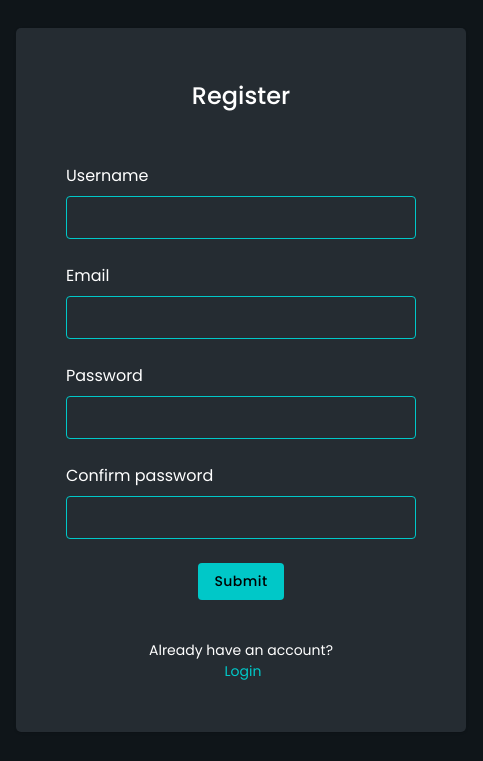
Test: Register form test › 3. New user without email
Type "Rocolo" into the field with test id "Username". click: (241,218)
box: [66,196,416,239]
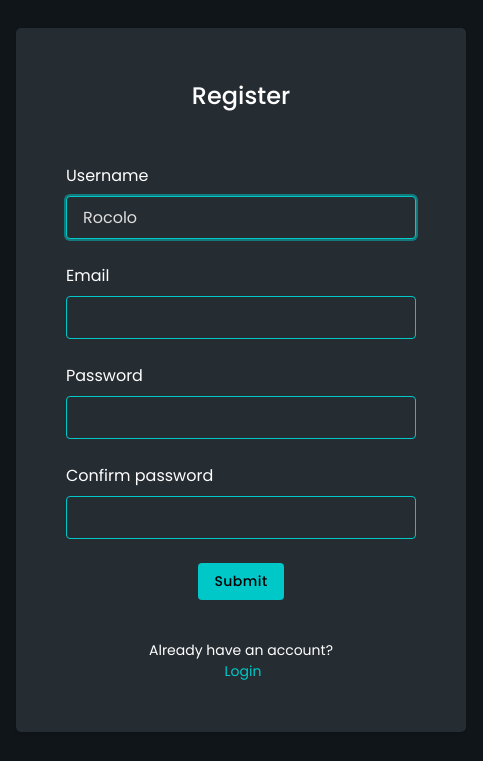
Type "Soyunmaestro123" into the password field with test id "Password". click: (241,418)
box: [66,396,416,439]
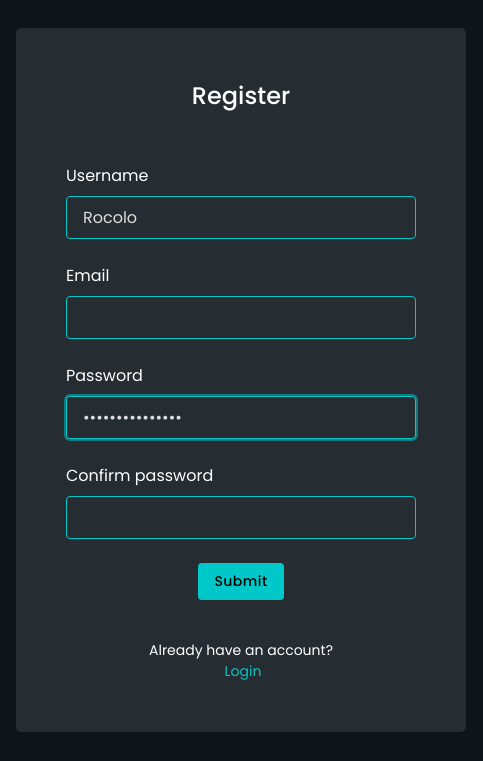
Type "Soyunmaestro123" into the password field with test id "Confirm password". click: (241,518)
box: [66,496,416,539]
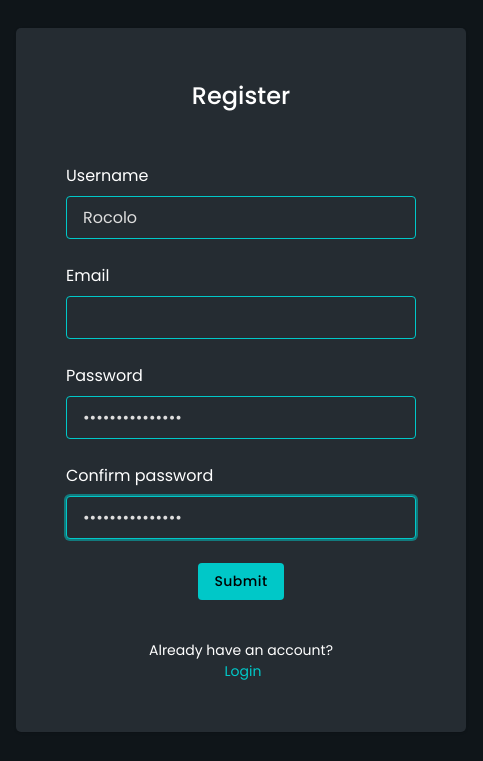
Click the button with test id "button". click: (241,582)
box: [198,563,284,600]
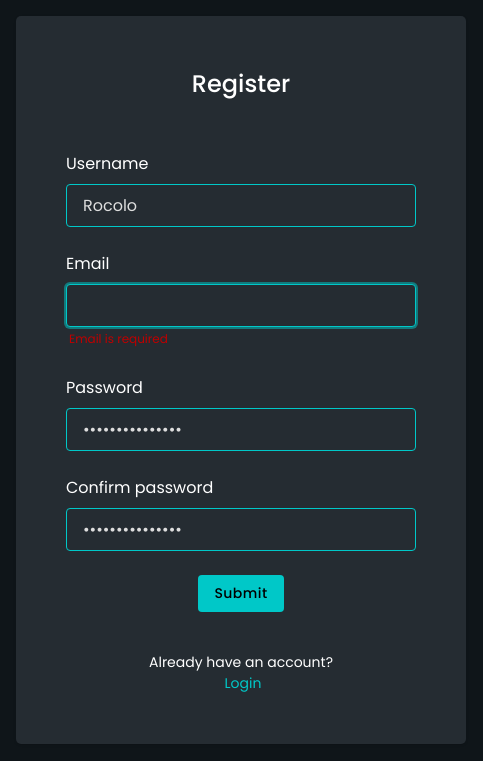
Check: the text with test id "alertError" reads "Email is required", box [69,330,168,347]
